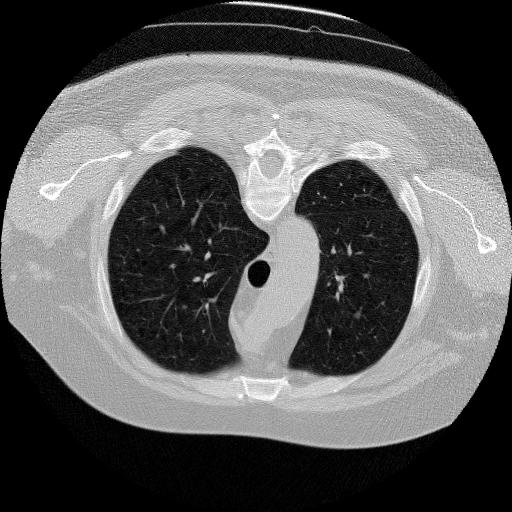nodule: (349, 311, 361, 323)
